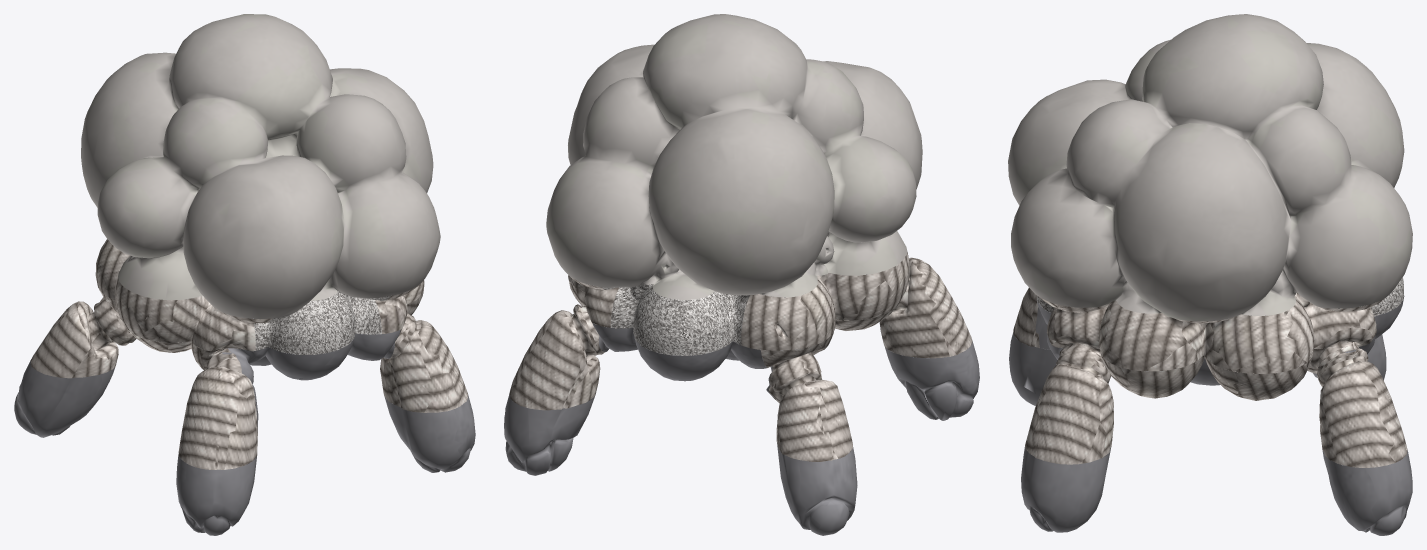
File: 23-blob-texture-bodies--blob_creature_3d_model.glb
The picture shows the model from 3 angles, left to right: view 1: azimuth 30°, elevation 25°; view 2: azimuth 150°, elevation 25°; view 3: azimuth 270°, elevation 25°; orthographic projection. The views are drawn at different scales.
Parts seen in each view (by area): view 1: head_mesh, arms_mesh, feet_mesh, body_mesh; view 2: head_mesh, arms_mesh, feet_mesh, body_mesh; view 3: head_mesh, arms_mesh, feet_mesh, body_mesh.
Part boxes in pixels (x1,y1,x2,y2): head_mesh: (81, 14, 440, 319); arms_mesh: (30, 239, 467, 469); feet_mesh: (14, 298, 475, 535); body_mesh: (253, 291, 390, 354); head_mesh: (546, 14, 922, 299); arms_mesh: (509, 252, 972, 461); feet_mesh: (504, 274, 979, 535); body_mesh: (602, 284, 749, 355); head_mesh: (1008, 14, 1412, 321); arms_mesh: (1013, 288, 1407, 467); feet_mesh: (1009, 296, 1412, 535); body_mesh: (1037, 277, 1403, 316).
Bounding box in the file's own units: 2.52 × 3 × 2.48.
Materials: 4 (4 with a texture image).
